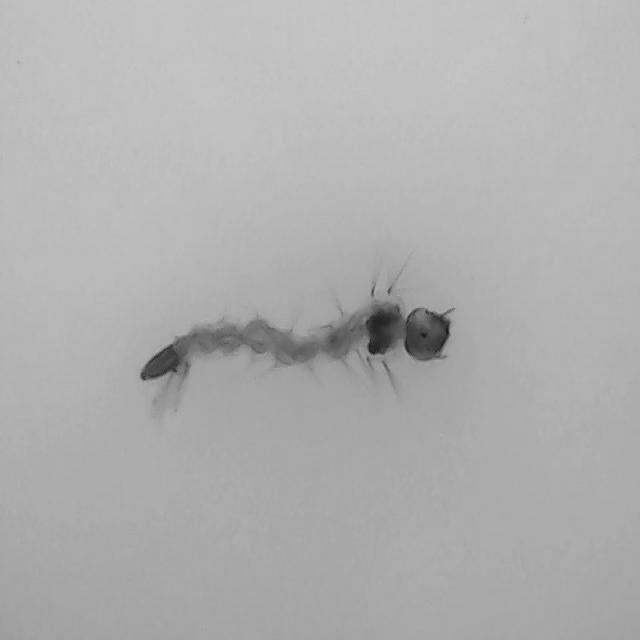larvas: (148, 300, 450, 387)
